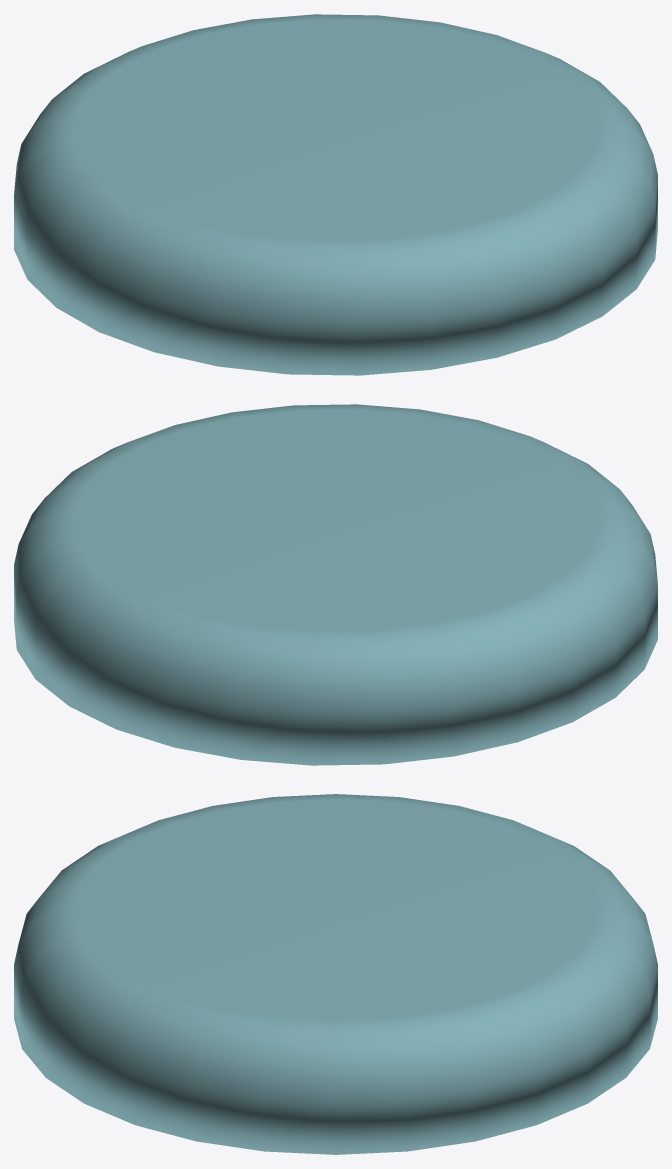
Rendered from table_button.fbx.
3 views of the same model, one above another, from view 1: azimuth 30°, elevation 25°; view 2: azimuth 150°, elevation 25°; view 3: azimuth 270°, elevation 25° (orthographic).
Visible parts, largest first — view 1: table_button; view 2: table_button; view 3: table_button.
Boxes of the visible parts, x1=… form: table_button: x1=14, y1=14, x2=657, y2=375; table_button: x1=14, y1=404, x2=657, y2=765; table_button: x1=14, y1=794, x2=657, y2=1154.
Bounding box in the file's own units: 55.03 × 10.24 × 55.03.
